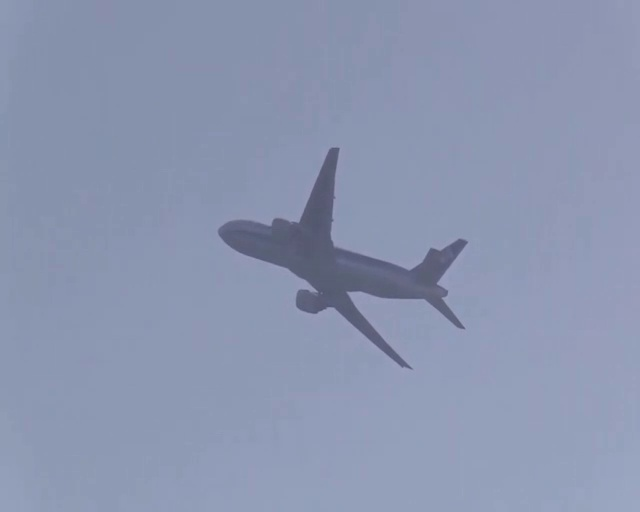AIRPLANE: (219, 145, 471, 374)
